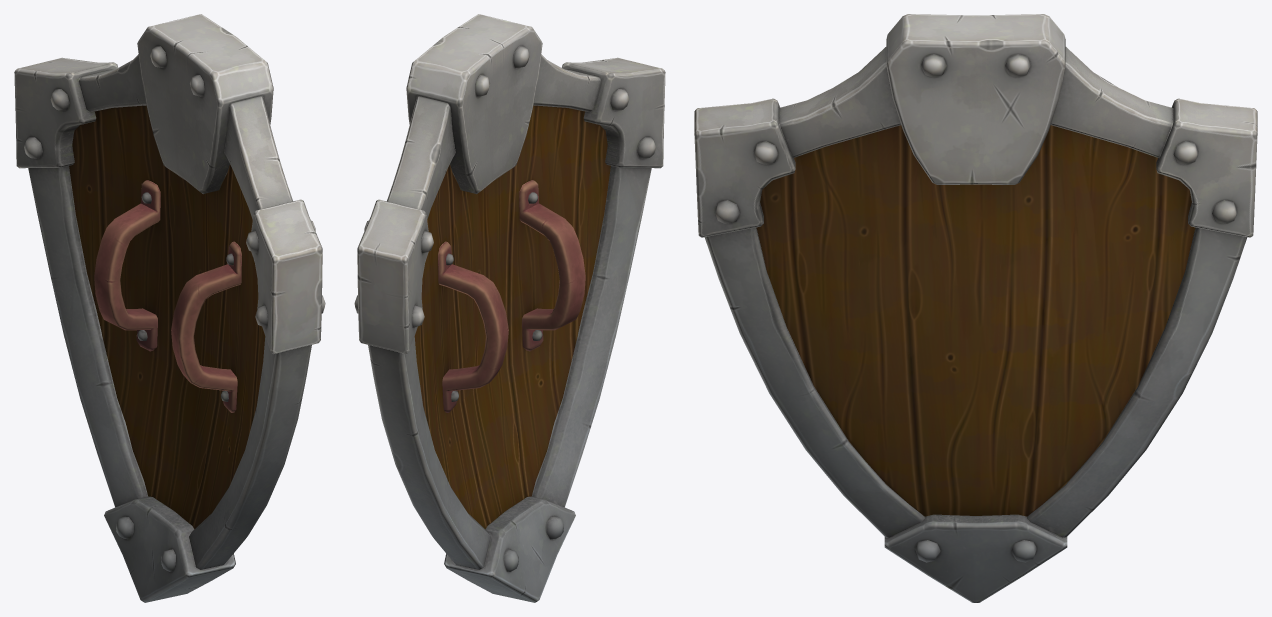
File: SM_Shield.fbx
3 views of the same model, side by side, from view 1: azimuth 30°, elevation 25°; view 2: azimuth 150°, elevation 25°; view 3: azimuth 270°, elevation 25° (orthographic). The views are drawn at different scales.
Parts seen in each view (by area): view 1: SM_Shield_LOD0; view 2: SM_Shield_LOD0; view 3: SM_Shield_LOD0.
Part boxes in pixels (<box>): SM_Shield_LOD0: <box>14,14,325,602</box>; SM_Shield_LOD0: <box>354,14,665,602</box>; SM_Shield_LOD0: <box>694,14,1257,602</box>.
Bounding box in the file's own units: 15.57 × 64.58 × 74.31.
Materials: 1 (1 with a texture image).
